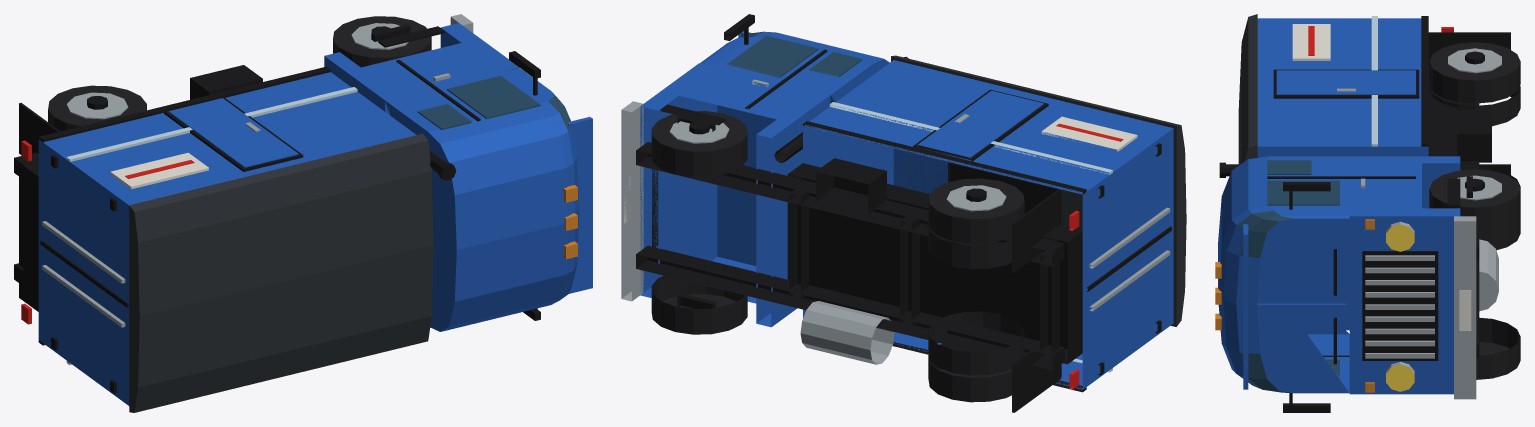
The picture shows the model from 3 angles, left to right: view 1: azimuth 30°, elevation 25°; view 2: azimuth 150°, elevation 25°; view 3: azimuth 270°, elevation 25°; orthographic projection. The views are drawn at different scales.
Visible parts, largest first — view 1: default_roof, default_body, default_cab_upper, default_side1_-1.55_1.95_cc1, default_cab_arch, default_rear_out1, default_front1, default_visor, default_side_window1, default_subframe, default_side1_-3.60_1.75_black, default_cab_back (+11 smaller); view 2: default_body, default_subframe, default_cab_arch, default_chassis-1, default_cab_front, default_cab_back, default_chassis1, default_rear_out1, default_front1, default_roof, default_fuel_tank, default_bumper (+24 smaller); view 3: default_cab_upper, default_body, default_cab_front, default_grille, default_rear_out1, default_bumper, default_front1, default_side1_-1.55_1.95_cc1, default_cab_arch, default_roof, default_front-1, default_battery_box (+32 smaller).
Boxes of the visible parts, bbox=[...] form: default_roof: bbox=[129, 133, 433, 412]; default_body: bbox=[38, 72, 416, 405]; default_cab_upper: bbox=[385, 68, 579, 331]; default_side1_-1.55_1.95_cc1: bbox=[168, 98, 298, 167]; default_cab_arch: bbox=[361, 43, 500, 233]; default_rear_out1: bbox=[48, 85, 146, 131]; default_front1: bbox=[333, 16, 431, 67]; default_visor: bbox=[567, 117, 592, 293]; default_side_window1: bbox=[447, 75, 540, 118]; default_subframe: bbox=[23, 162, 38, 301]; default_side1_-3.60_1.75_black: bbox=[38, 66, 330, 142]; default_cab_back: bbox=[324, 52, 399, 115]; default_body: bbox=[803, 60, 1173, 389]; default_subframe: bbox=[787, 163, 1082, 364]; default_cab_arch: bbox=[679, 67, 814, 303]; default_chassis-1: bbox=[636, 245, 1064, 370]; default_cab_front: bbox=[640, 63, 717, 297]; default_cab_back: bbox=[756, 91, 830, 327]; default_chassis1: bbox=[636, 142, 1064, 266]; default_rear_out1: bbox=[928, 178, 1024, 243]; default_front1: bbox=[651, 111, 747, 177]; default_roof: bbox=[891, 55, 1186, 326]; default_fuel_tank: bbox=[800, 301, 894, 364]; default_bumper: bbox=[621, 101, 643, 301]; default_cab_upper: bbox=[1218, 156, 1349, 393]; default_body: bbox=[1257, 18, 1428, 330]; default_cab_front: bbox=[1349, 208, 1460, 394]; default_grille: bbox=[1362, 251, 1438, 360]; default_rear_out1: bbox=[1429, 42, 1520, 103]; default_bumper: bbox=[1454, 216, 1476, 399]; default_front1: bbox=[1429, 169, 1520, 231]; default_side1_-1.55_1.95_cc1: bbox=[1276, 70, 1415, 94]; default_cab_arch: bbox=[1349, 163, 1421, 208]; default_roof: bbox=[1238, 14, 1257, 164]; default_front-1: bbox=[1476, 317, 1520, 379]; default_battery_box: bbox=[1457, 109, 1491, 162].
Bounding box in the file's own units: 7.61 × 3.98 × 4.82.
